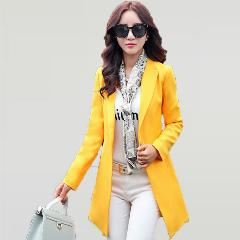F_W_suit jacket: (70, 58, 188, 226)
